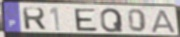0: (126, 8, 148, 34)
1: (49, 7, 61, 32)
A: (150, 9, 177, 34)
E: (73, 8, 99, 32)
Q: (99, 7, 124, 34)
R: (21, 7, 48, 31)
